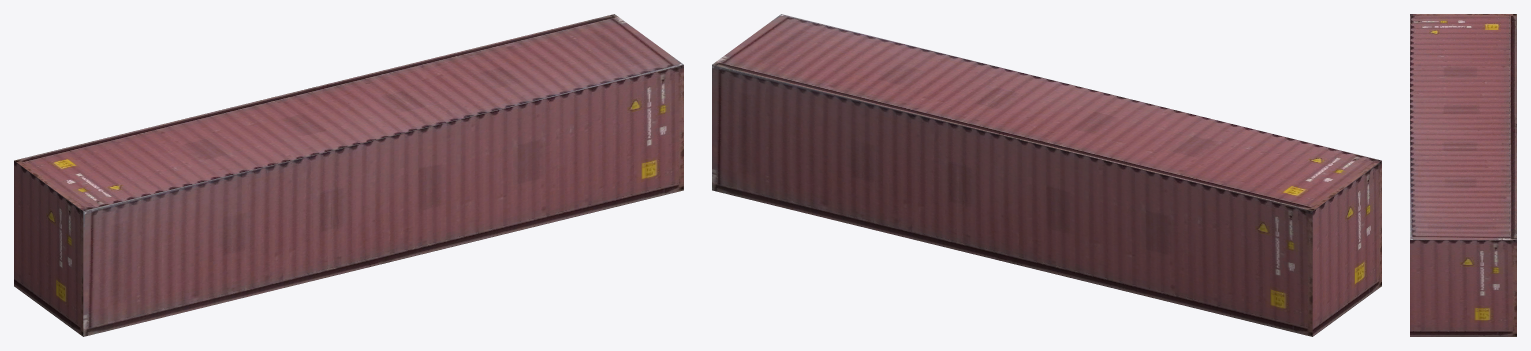
File: CtnRed.FBX
3 renders of one model, left to right at view 1: azimuth 30°, elevation 25°; view 2: azimuth 150°, elevation 25°; view 3: azimuth 270°, elevation 25°, orthographic. The views are drawn at different scales.
Parts seen in each view (by area): view 1: CtnRed; view 2: CtnRed; view 3: CtnRed.
Part boxes in pixels (x1,y1,x2,y2): CtnRed: (14,14,683,336); CtnRed: (712,14,1381,336); CtnRed: (1410,14,1516,336).
Bounding box in the file's own units: 1219 × 244 × 244.
